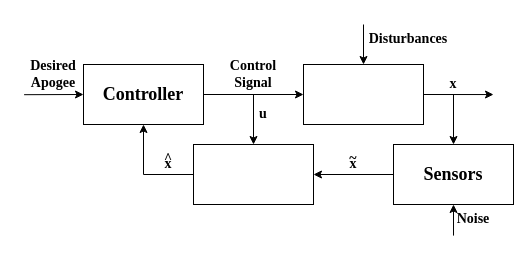
Image size: 532x262. Some labels were removed from this diagram. Each missing label, with the centre of its shape:
"Estimator" goes at point (253, 174).
"Plant" goes at point (363, 94).
